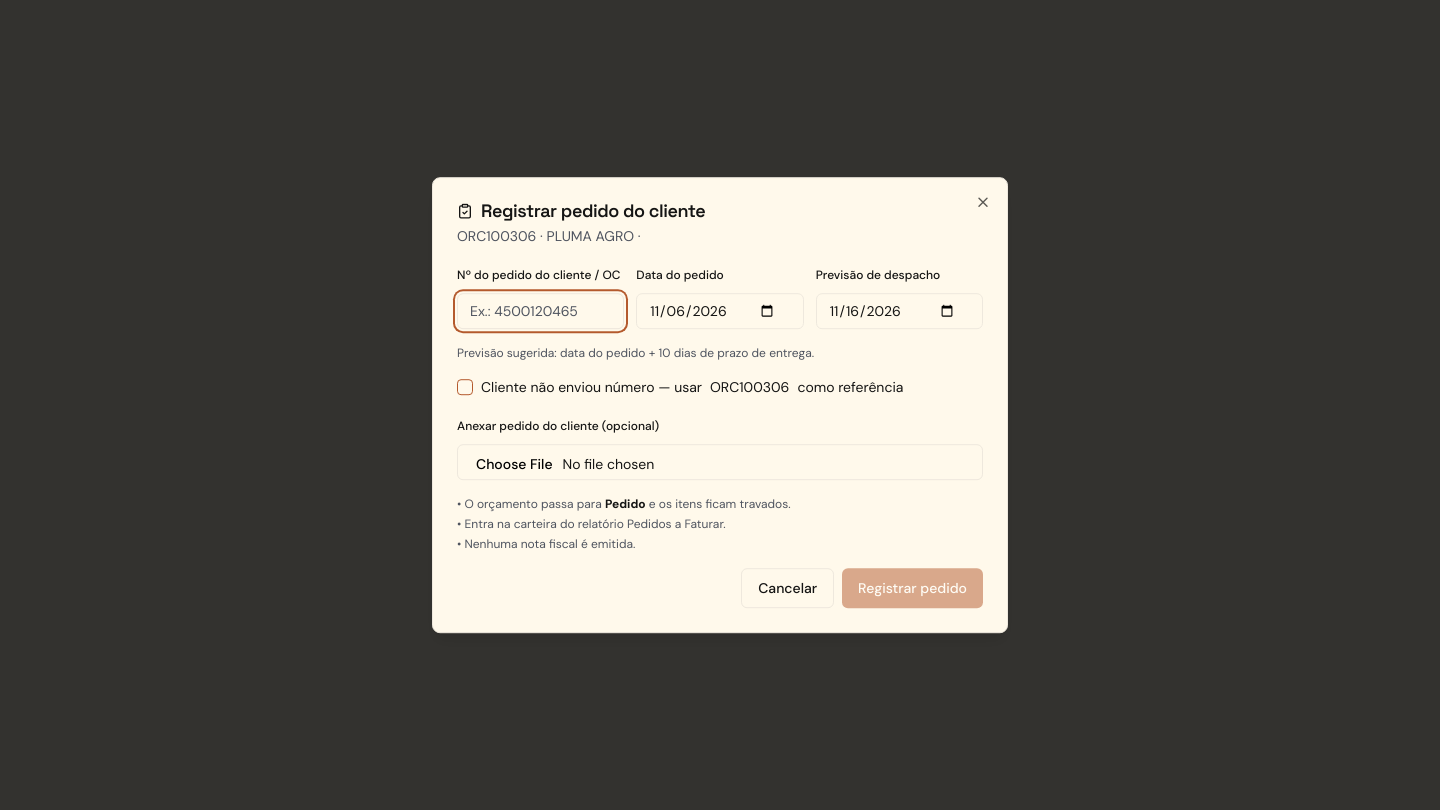
it: RegistrarPedidoDialog › sugere a previsão pelo prazo de entrega e exige o número do pedido
The width and height of the screenshot is (1440, 810).
Type "2026-09-26" into the date field labelled "Data do pedido". click: (720, 311)
box: x1=636 y1=293 x2=804 y2=329
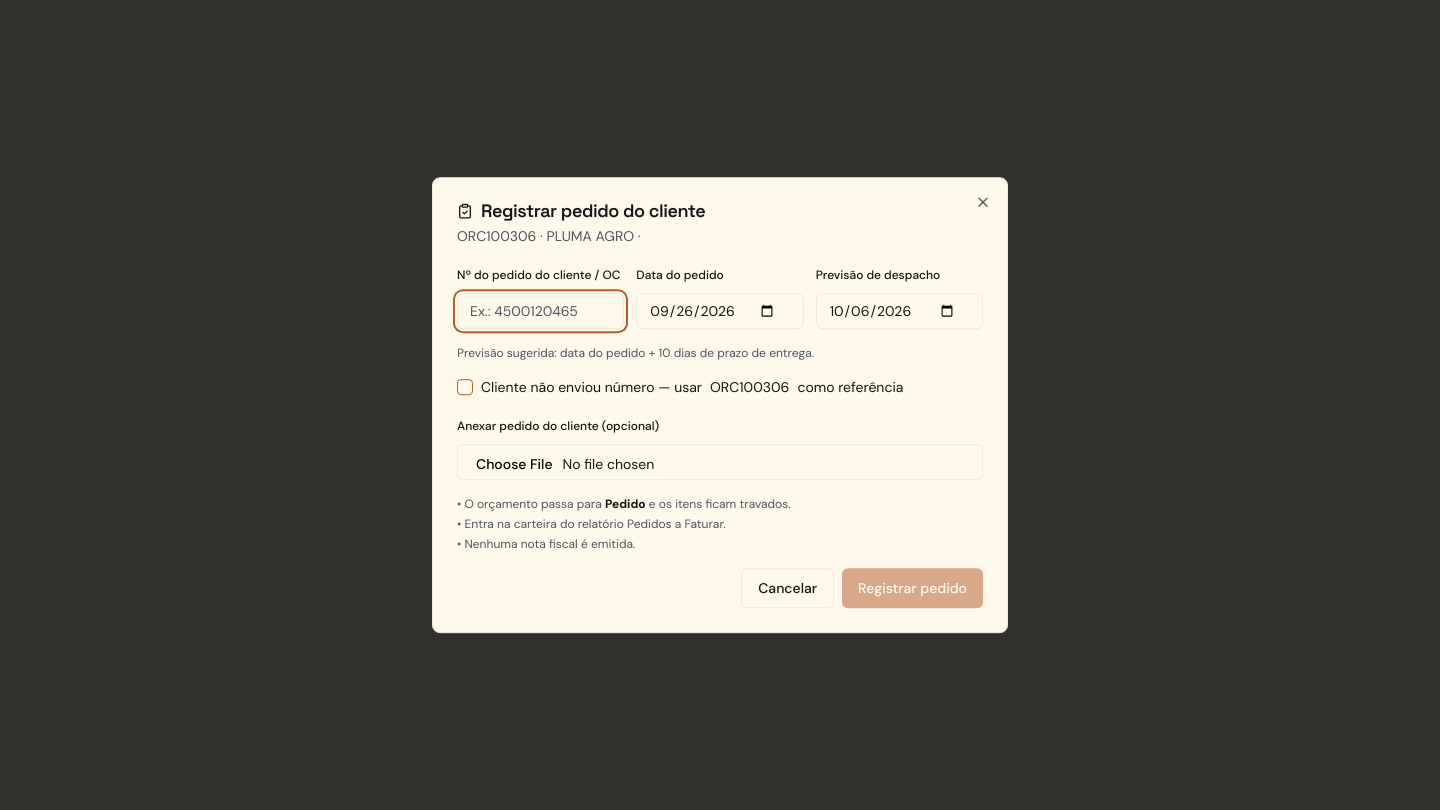
expect the button "Registrar pedido" is disabled: met, box x1=842 y1=568 x2=983 y2=608
expect the date field labelled "Previsão de despacho" holds "2026-10-06": met, box x1=816 y1=293 x2=983 y2=329
